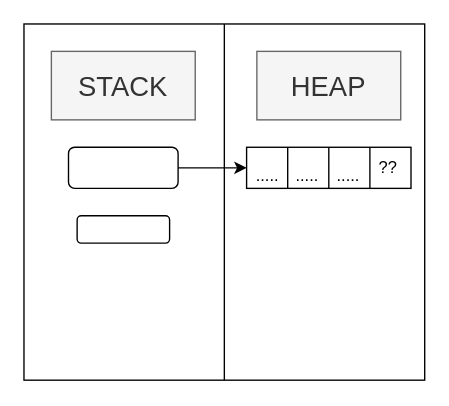
The diagram is 449 pixels wide and 406 high, and some of its shapes have lost their labels. Each missing label, with the box of its shape:
*linea (Vector): (67, 146, 178, 188)
size: (76, 214, 170, 243)
